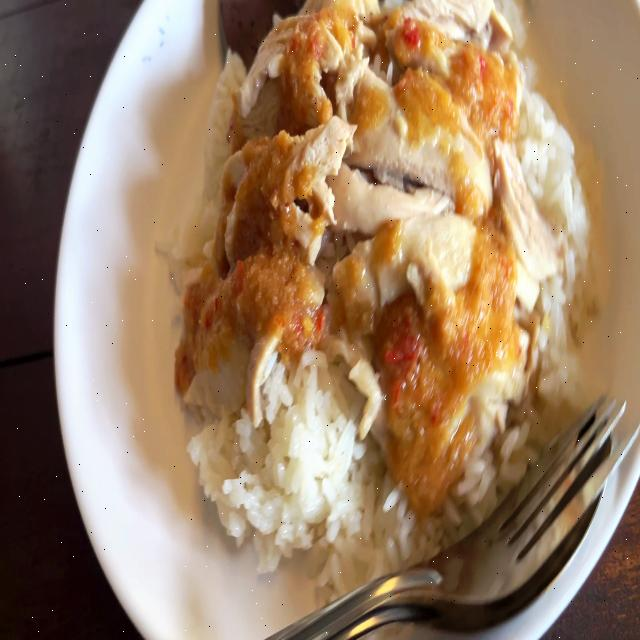boiled_chicken: (221, 4, 520, 445)
chicken_rice: (140, 0, 615, 567)
